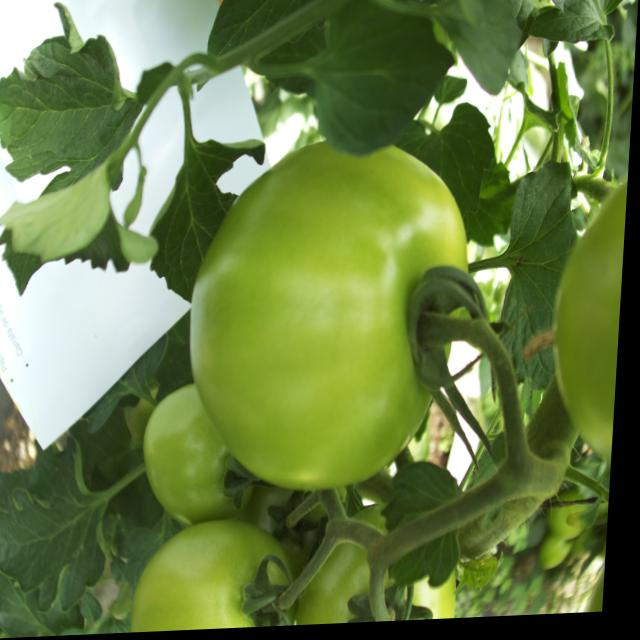yesil: (166, 134, 490, 490)
